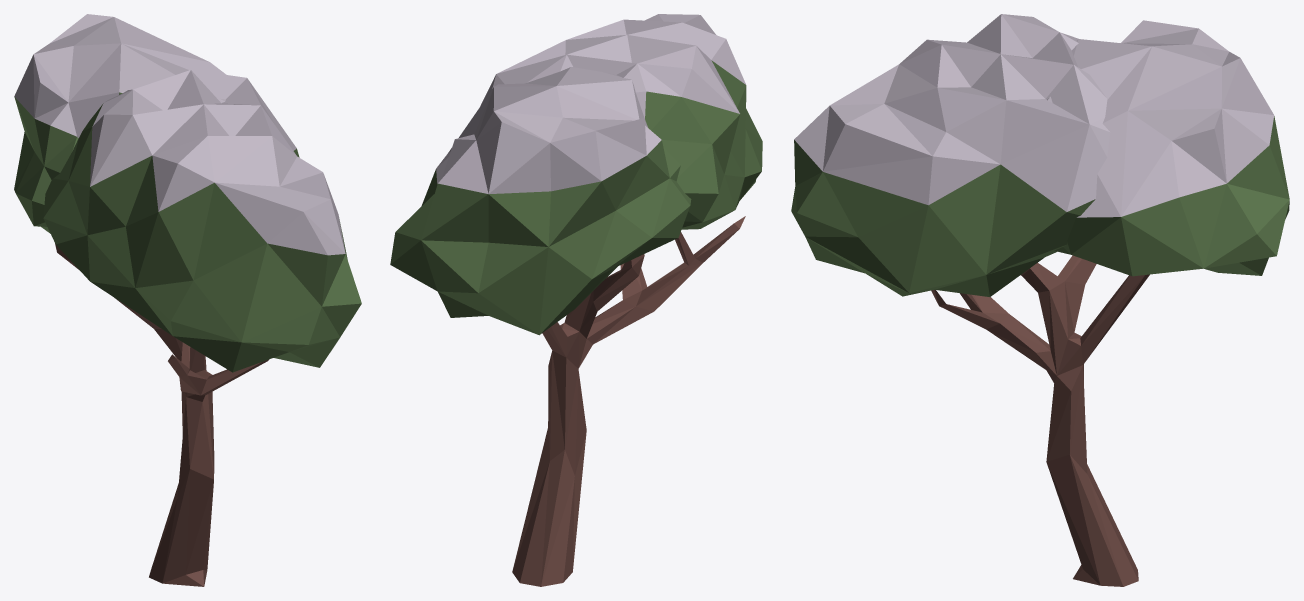
The model's file is CommonTree_Snow_5.lod2.glb.
3 views of the same model, side by side, from view 1: azimuth 30°, elevation 25°; view 2: azimuth 150°, elevation 25°; view 3: azimuth 270°, elevation 25° (orthographic). The views are drawn at different scales.
Parts seen in each view (by area): view 1: CommonTree_Snow_5; view 2: CommonTree_Snow_5; view 3: CommonTree_Snow_5.
Part boxes in pixels (x1,y1,x2,y2): CommonTree_Snow_5: [14, 14, 361, 586]; CommonTree_Snow_5: [390, 14, 762, 586]; CommonTree_Snow_5: [791, 14, 1289, 586].
Size of the model in its own units: 1.29 by 2.56 by 2.25.
